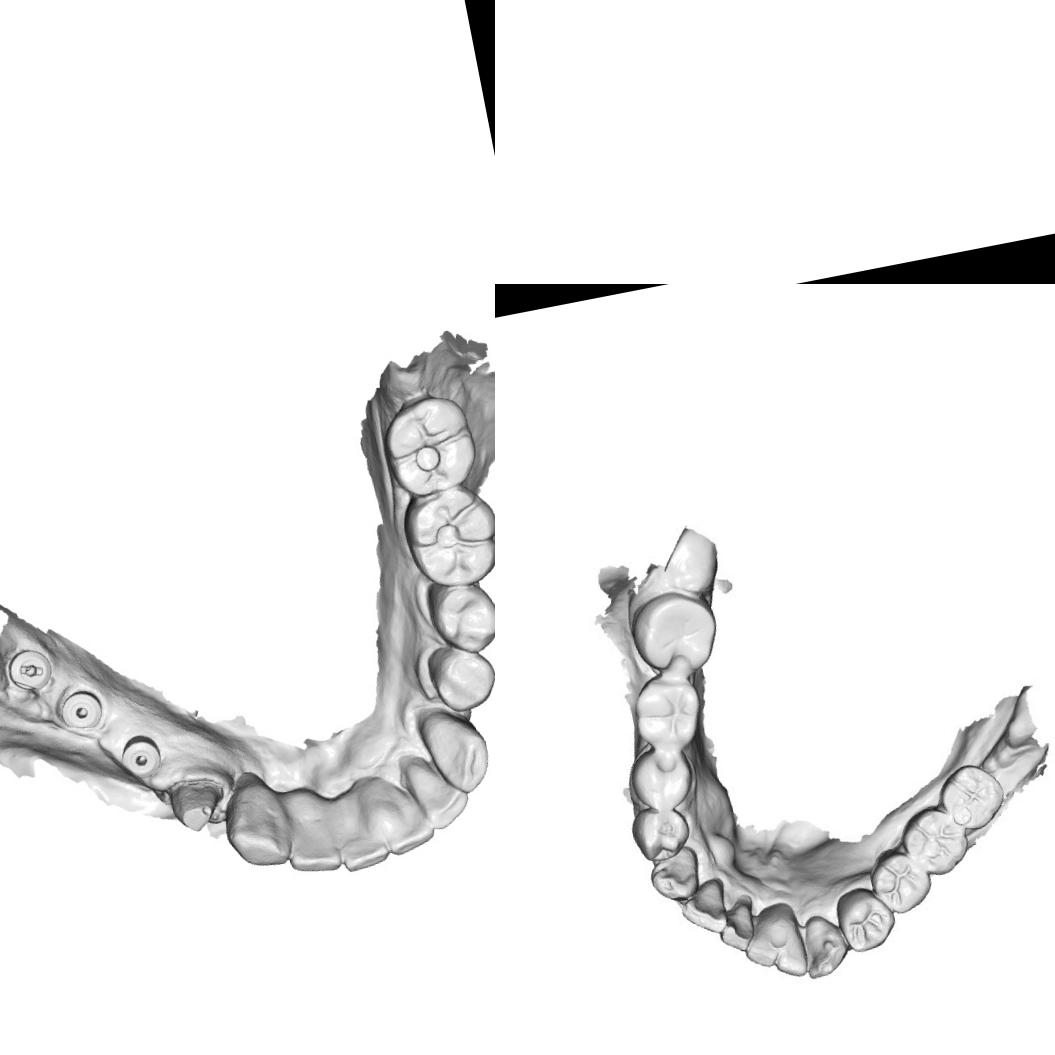canine: (217, 776, 295, 873), (426, 706, 495, 798), (799, 905, 849, 982), (647, 848, 700, 905)
crown: (161, 774, 228, 837)
implant: (55, 686, 106, 734), (117, 732, 164, 780)
implant_minus: (2, 644, 60, 698)
incisor: (368, 781, 443, 866), (404, 756, 475, 836), (282, 822, 344, 881), (332, 818, 395, 874), (738, 909, 784, 970), (765, 924, 812, 983), (712, 895, 759, 950), (676, 881, 724, 934)
molar: (375, 386, 484, 501), (394, 479, 495, 594), (625, 584, 724, 678), (626, 669, 709, 755), (933, 755, 1009, 837), (898, 798, 972, 880), (622, 743, 698, 817), (869, 843, 932, 917)
premolar: (420, 574, 495, 661), (427, 642, 495, 715), (832, 882, 897, 954), (622, 802, 693, 864)
